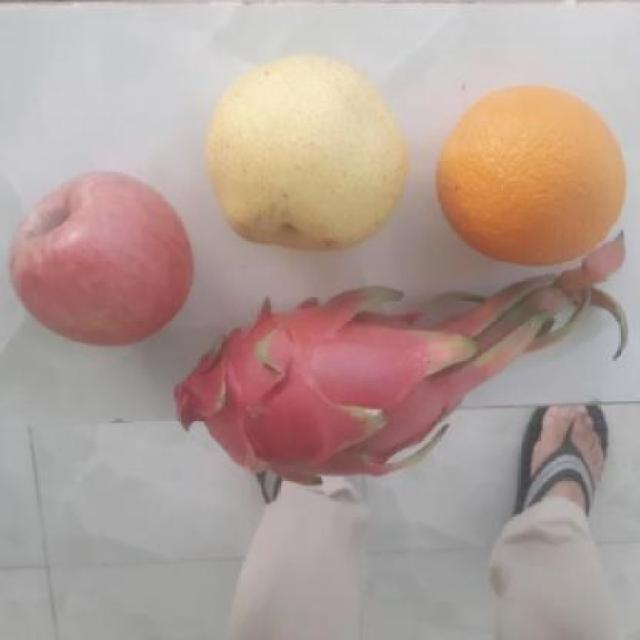apple: (3, 166, 195, 349)
dragon fruit: (163, 295, 434, 487)
oren: (432, 86, 630, 263)
pear: (192, 56, 414, 249)
